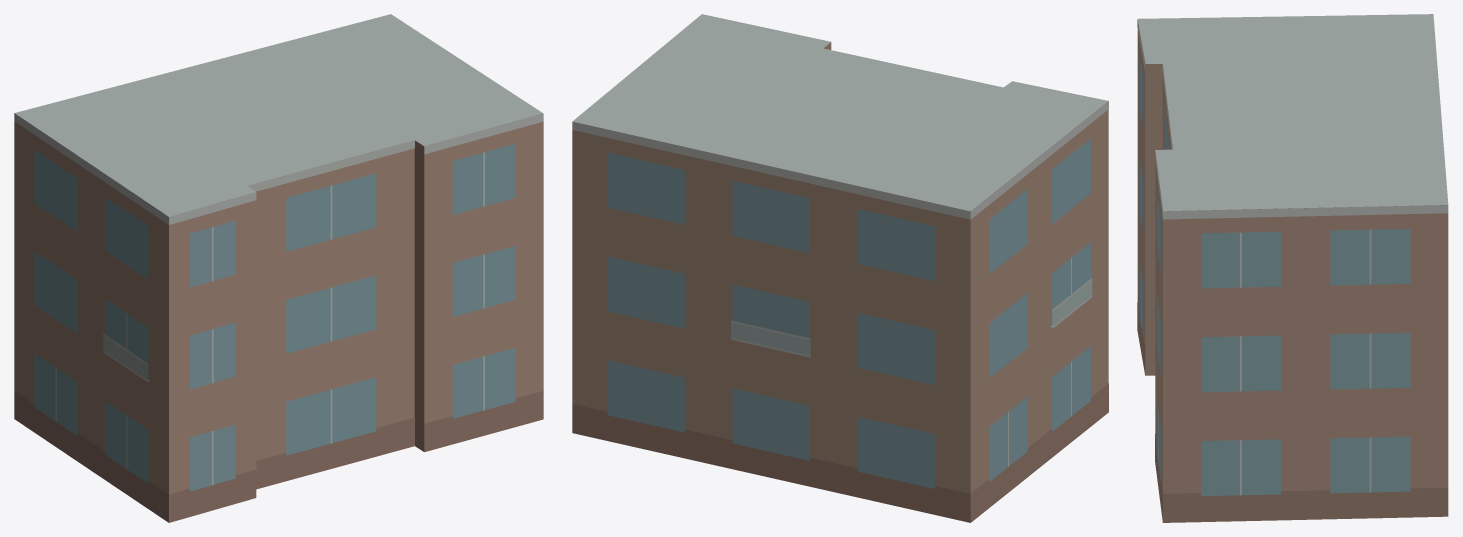
File: survey-upis-32677182.glb
3 renders of one model, left to right at view 1: azimuth 30°, elevation 25°; view 2: azimuth 150°, elevation 25°; view 3: azimuth 270°, elevation 25°, orthographic.
Visible parts, largest first — view 1: survey-upis-32677182.tmp; view 2: survey-upis-32677182.tmp; view 3: survey-upis-32677182.tmp.
Part boxes in pixels (bbox=[...]): survey-upis-32677182.tmp: bbox=[14, 14, 543, 522]; survey-upis-32677182.tmp: bbox=[572, 14, 1108, 522]; survey-upis-32677182.tmp: bbox=[1137, 14, 1448, 522].
Bounding box in the file's own units: 12.43 × 9.15 × 8.28.
